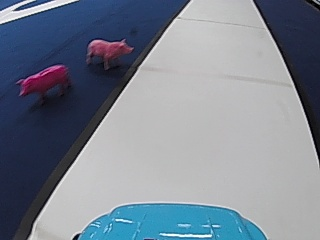pig: (13, 60, 70, 104), (85, 34, 134, 71)
